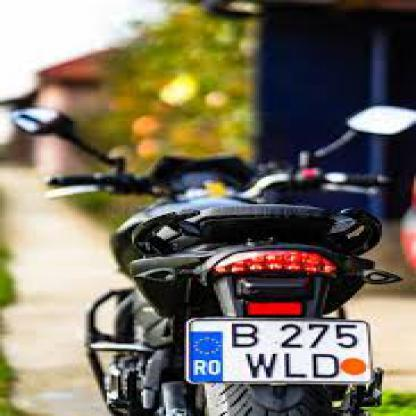Motorcycle: (5, 96, 414, 415)
